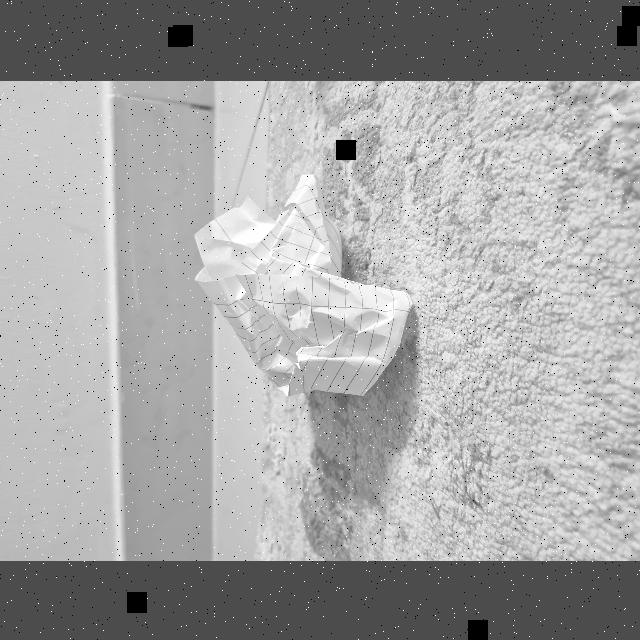scrap_paper: (192, 176, 422, 406)
